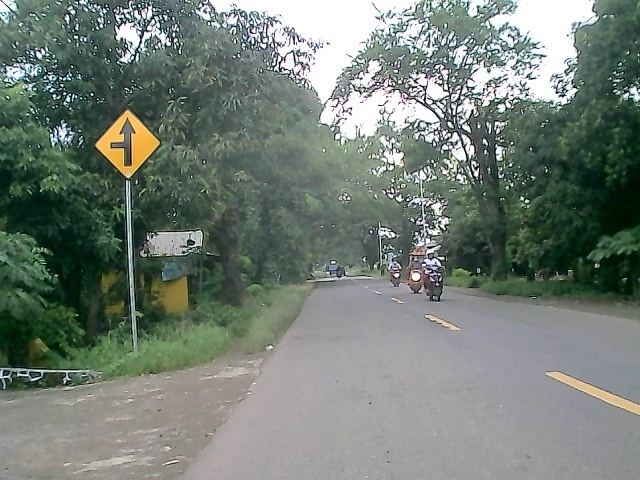Simpang kiri dengan prioritas: (91, 106, 165, 184)
